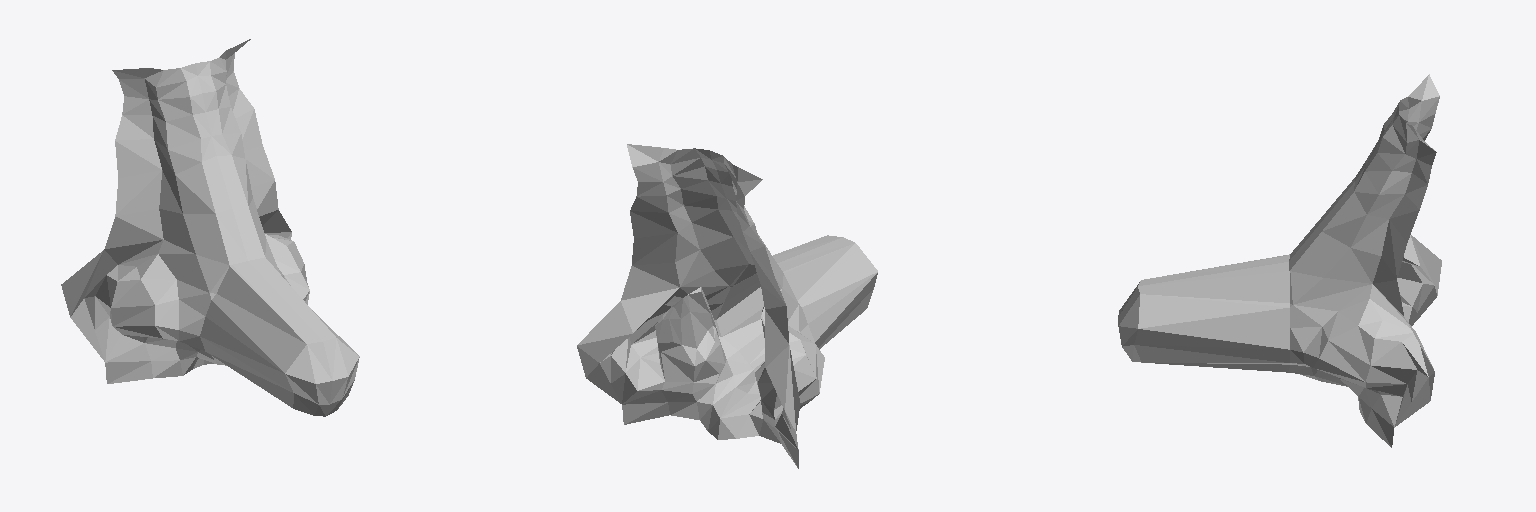
Rendered from nose2.obj.
The picture shows the model from 3 angles: view 1: azimuth 30°, elevation 25°; view 2: azimuth 150°, elevation 25°; view 3: azimuth 270°, elevation 25°; orthographic projection.
Parts seen in each view (by area): view 1: object_1; view 2: object_1; view 3: object_1.
Boxes of the visible parts, x1,y1,x2,y2 form: object_1: [61, 39, 359, 416]; object_1: [577, 144, 877, 468]; object_1: [1118, 74, 1441, 447].
Bounding box in the file's own units: 19.86 × 24.94 × 24.54.